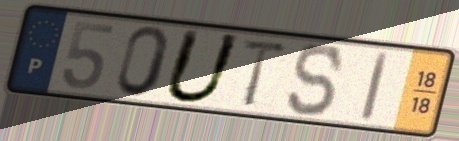0: (115, 24, 173, 100)
5: (59, 18, 117, 91)
I: (357, 49, 393, 125)
S: (285, 41, 347, 118)
T: (238, 37, 292, 109)
U: (159, 26, 245, 107)
